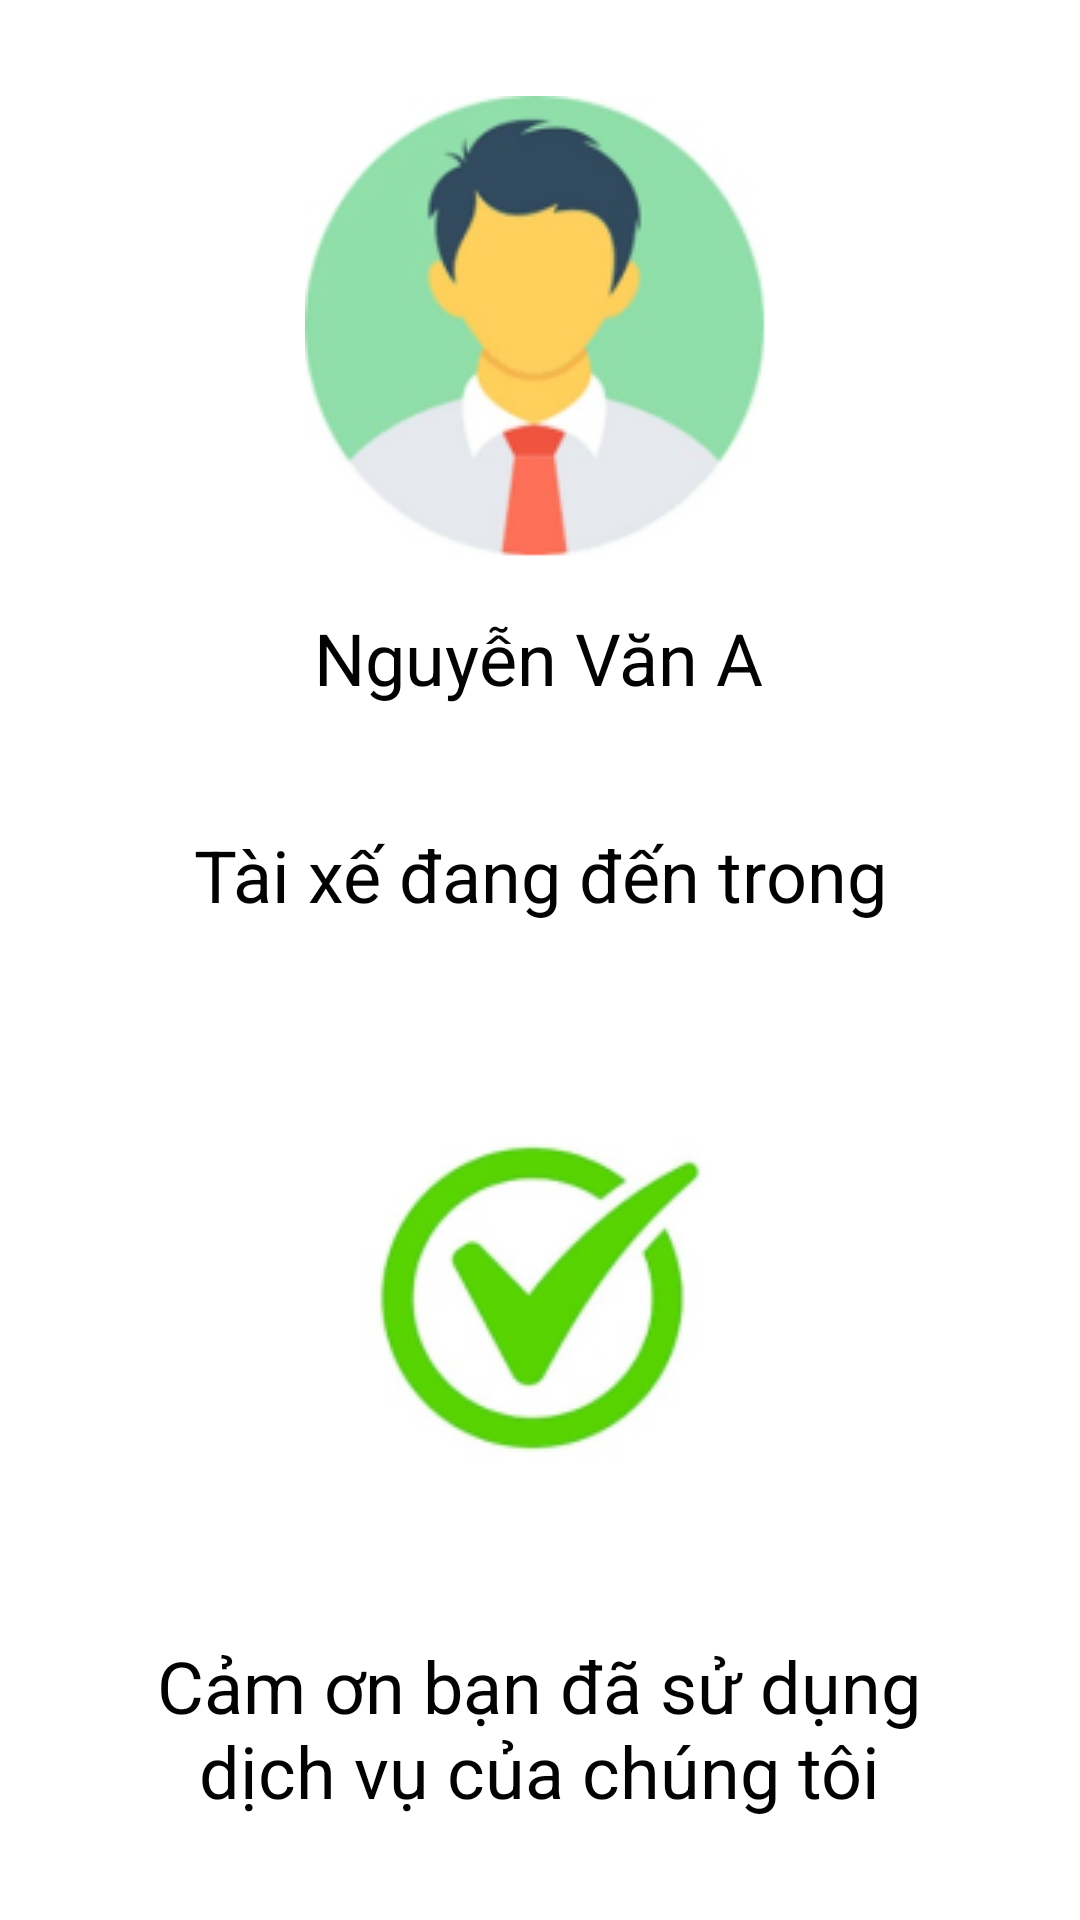

Point at icon controls on the screen. Image size 1080x1920, points as [x,y].
tich: [540,1298]
